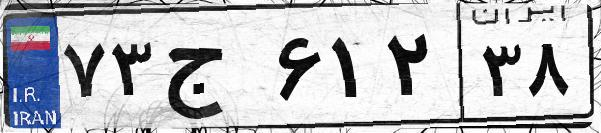1: (330, 28, 385, 110)
2: (385, 28, 445, 110)
3: (475, 38, 525, 113), (110, 28, 158, 98)
6: (270, 28, 330, 110)
7: (57, 26, 110, 100)
8: (525, 38, 570, 115)
ج: (158, 20, 270, 120)
